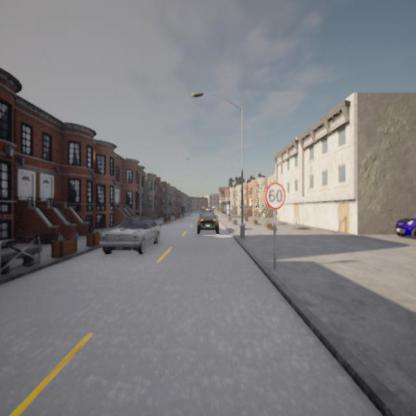traffic_sign_60: (264, 180, 286, 209)
vehicle: (99, 217, 162, 255), (196, 211, 217, 234), (396, 218, 415, 239)
